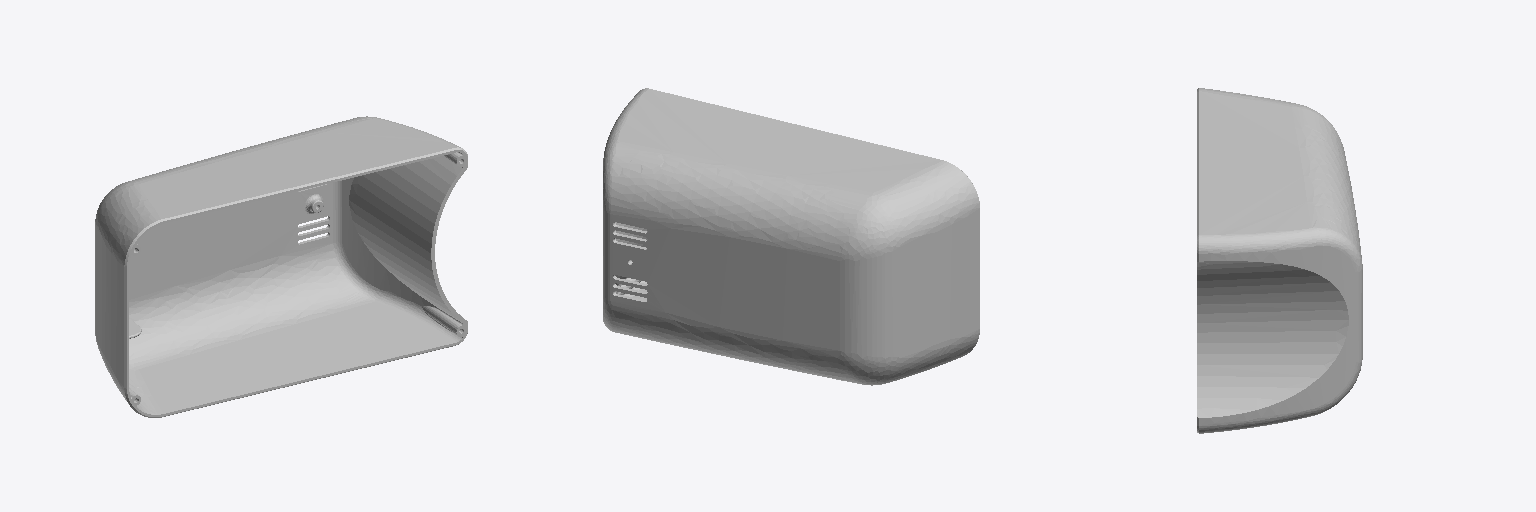
The model's file is hull_r2_vis.obj.
3 views of the same model, side by side, from view 1: azimuth 30°, elevation 25°; view 2: azimuth 150°, elevation 25°; view 3: azimuth 270°, elevation 25° (orthographic).
Visible parts, largest first — view 1: Hull_R2_vis; view 2: Hull_R2_vis; view 3: Hull_R2_vis.
Boxes of the visible parts, <box> form: Hull_R2_vis: <box>95,116,467,417</box>; Hull_R2_vis: <box>603,88,979,385</box>; Hull_R2_vis: <box>1197,88,1362,433</box>.
Size of the model in its own units: 0.1775 by 0.0977 by 0.0741.